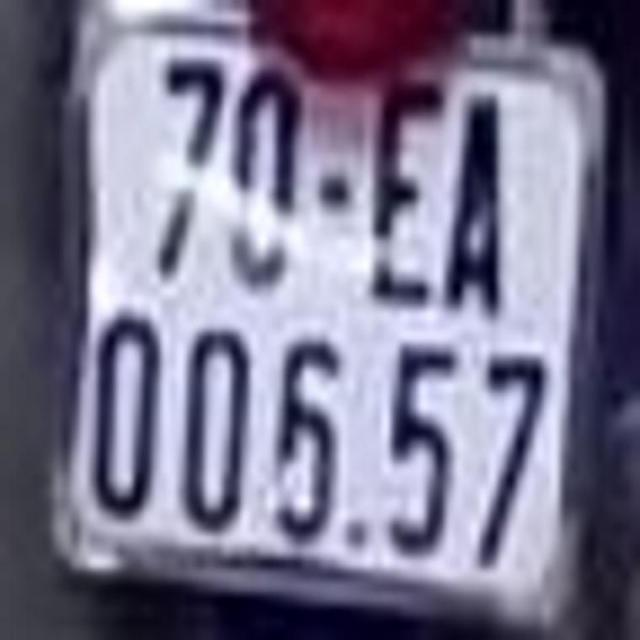0: (231, 66, 294, 285), (96, 321, 160, 504), (186, 322, 240, 522)
5: (269, 337, 342, 537), (387, 335, 447, 556)
7: (134, 57, 221, 282), (467, 345, 544, 576)
A: (455, 102, 501, 308)
E: (372, 80, 439, 307)
